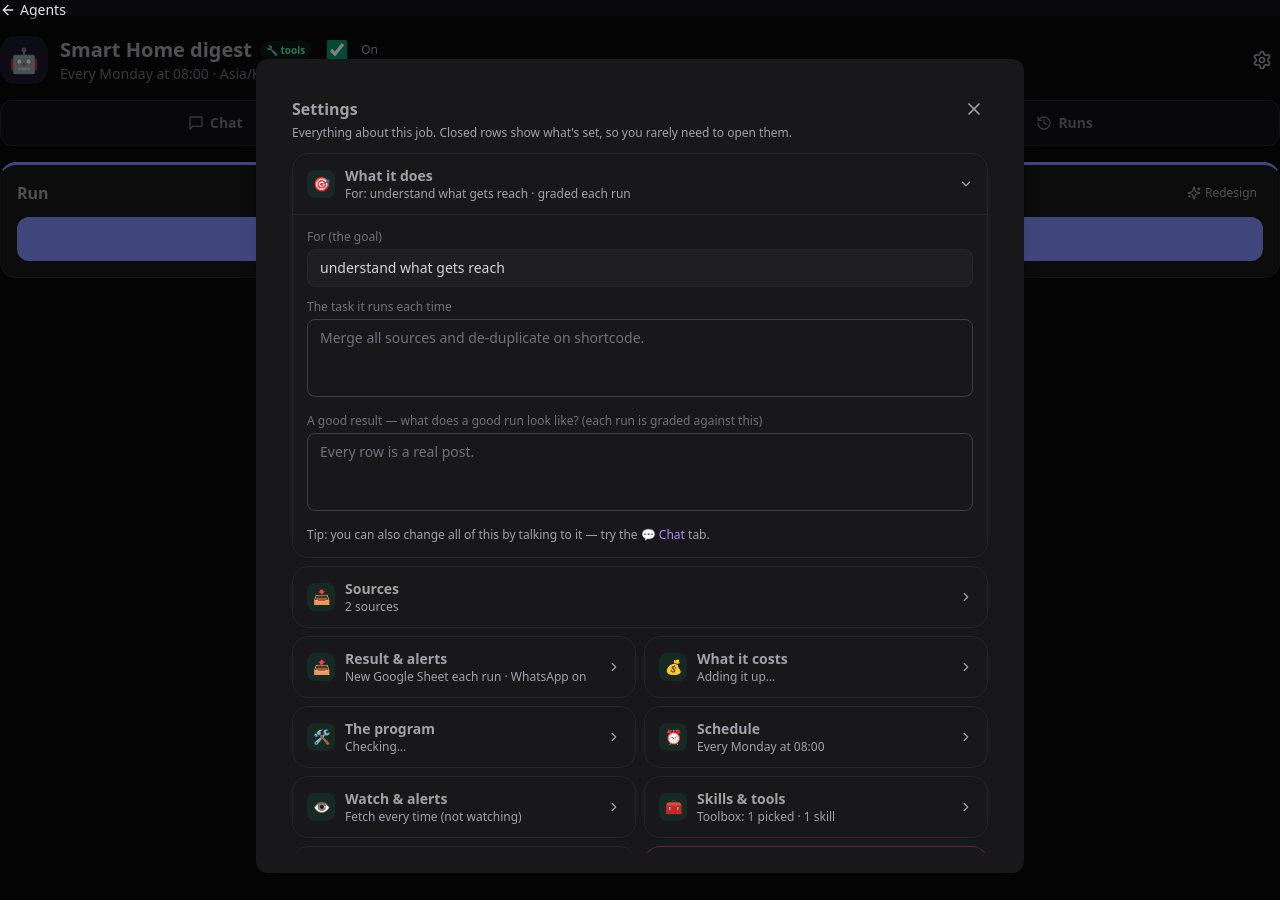
Test: the accordion (BEA-1381) › the sticky Save appears when the task is edited and its one PATCH carries prompt+rubric, then it goes away
Expected: the element with test id "srow-what" is shown, [292,153,988,558]
Replace the text in the text box labelled "The task it runs each time" with "Merge and keep only India-relevant posts." at [640, 358], box [307,319,973,397]
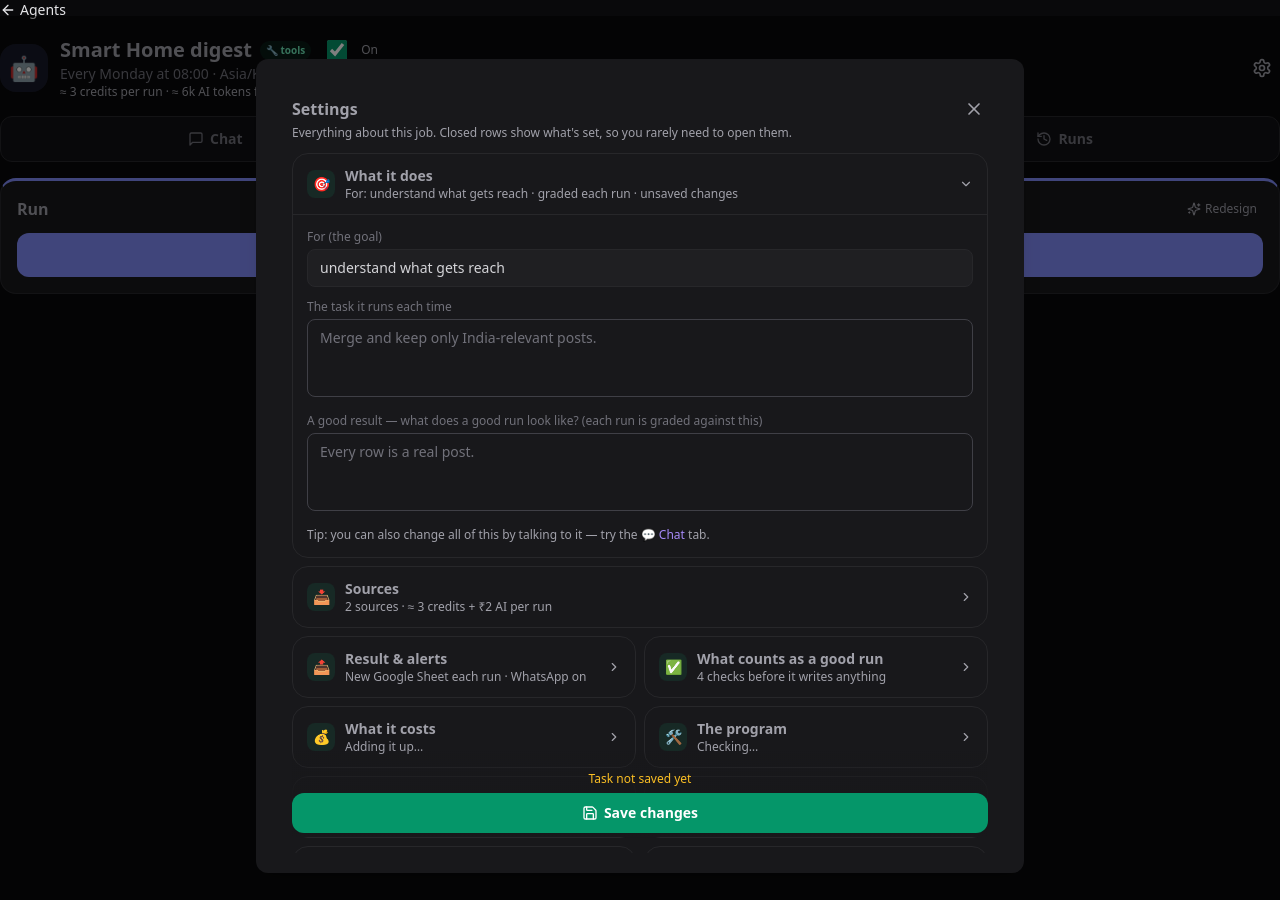
Result: the element with test id "settings-save-bar" is shown at [292,751,988,837]
Result: the text with test id "srow-what-summary" reads "For: understand what gets reach · graded each run · unsaved changes" at [345,185,738,202]
Click the button "Save changes" at [640, 813], box [292,793,988,833]
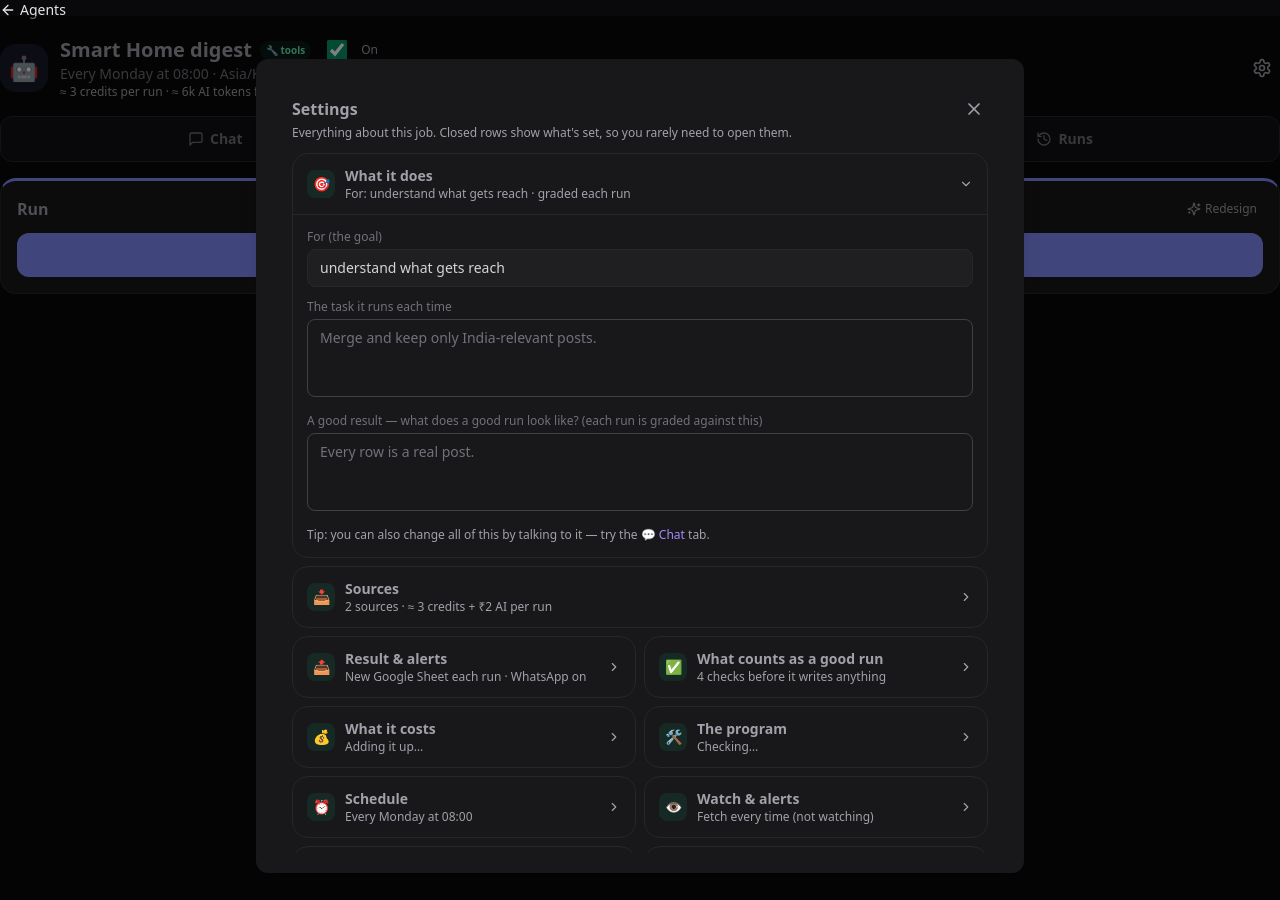
Result: the element with test id "settings-save-bar" is gone
